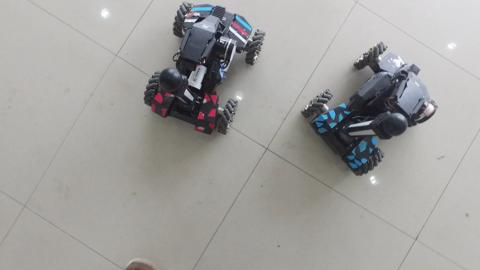chariot: (298, 38, 444, 182), (134, 1, 269, 143)
